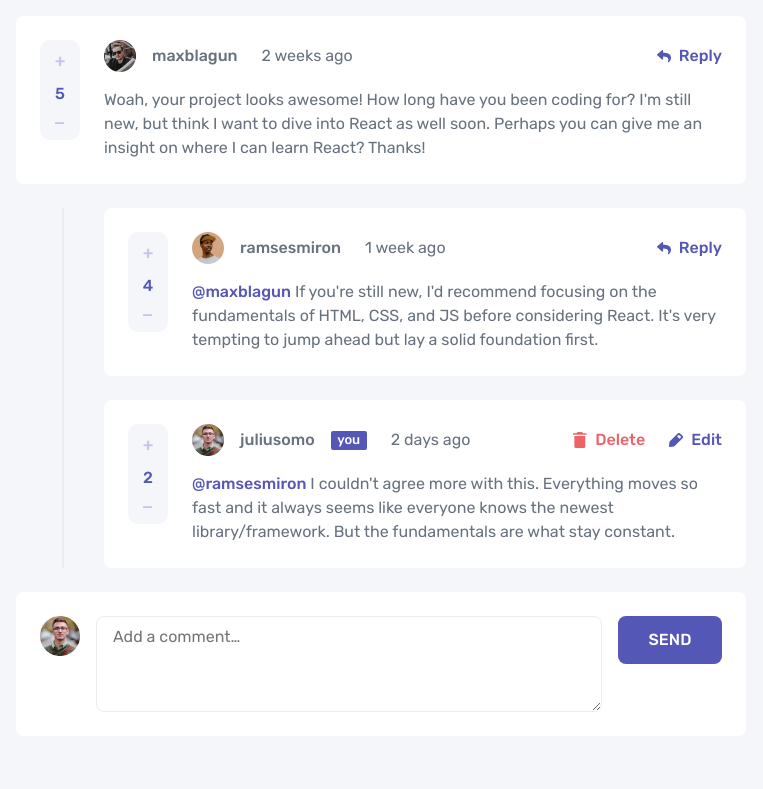
App › #2 - new comment creation/deletion
(page scrolled)
set the value of the input elements
Type "This is a new comment at the top level." into the text box with id "textarea-new-comment".
click(349, 664); type("This is a new comment at the top level.")  # box [96, 616, 602, 712]
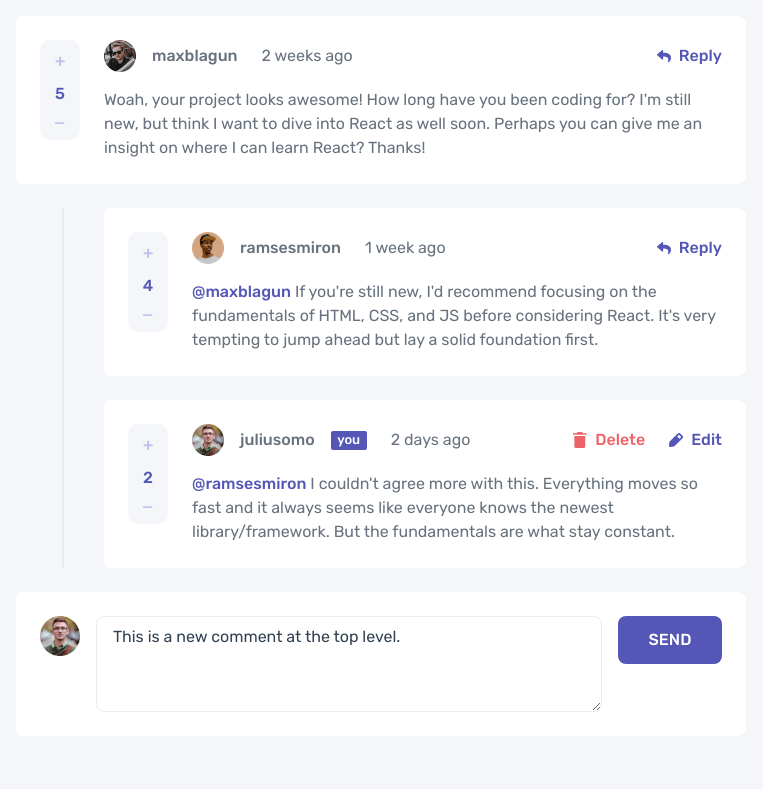
Simulate submitting the form
Submit the form with id "form-new-comment", box [40, 616, 722, 712]
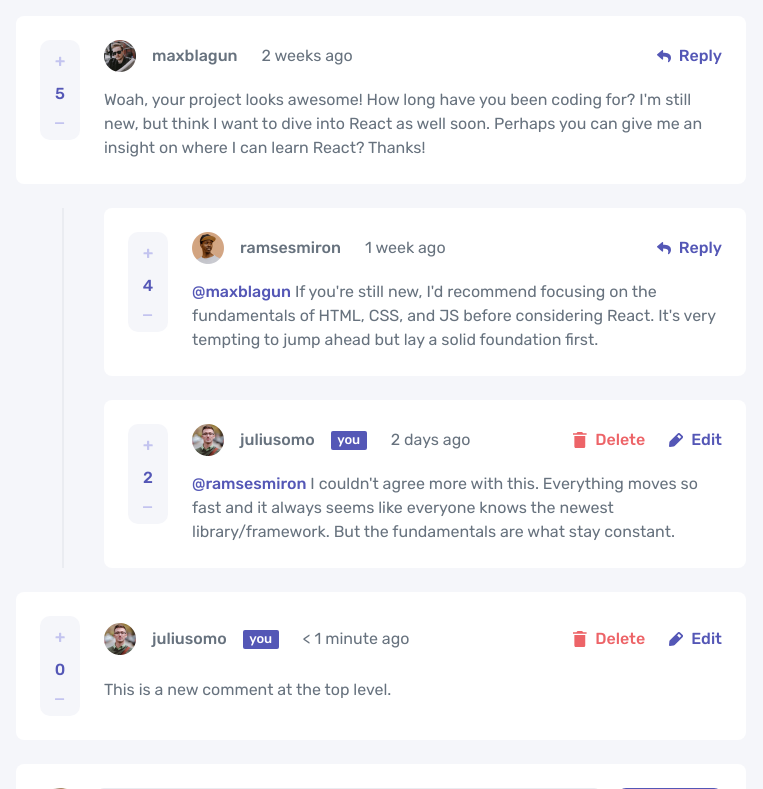
Expected: the number of elements with class "comment" is 5
Click the button "Delete" next to "< 1 minute ago".
click(609, 639)  # box [565, 627, 653, 651]
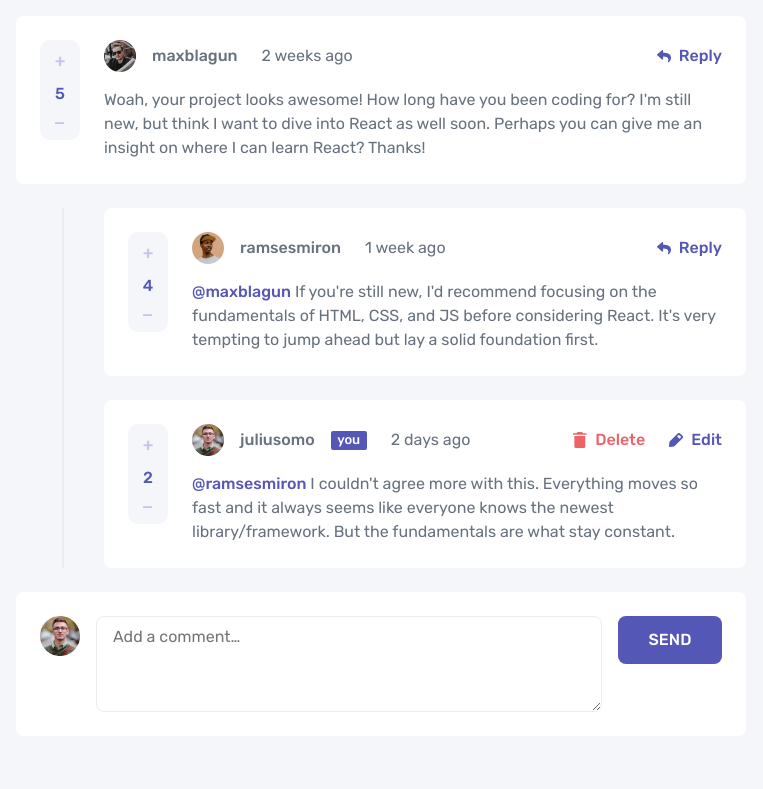
Expected: the number of elements with class "comment" is 4
